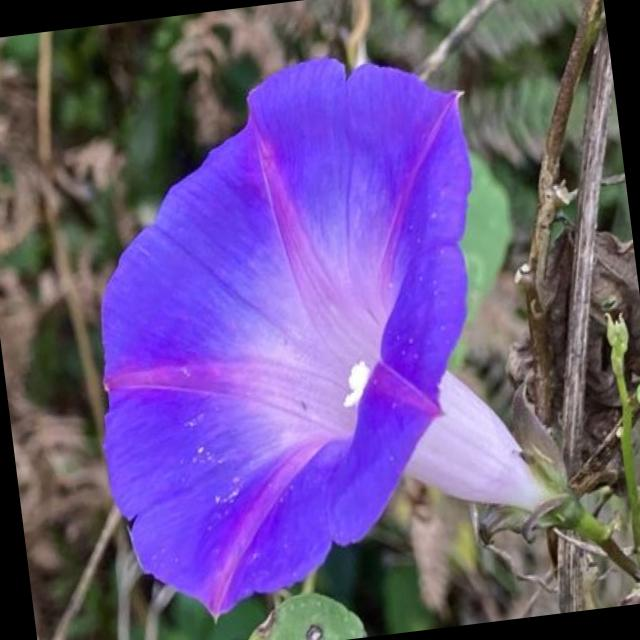ipomoea: (54, 32, 560, 634)
